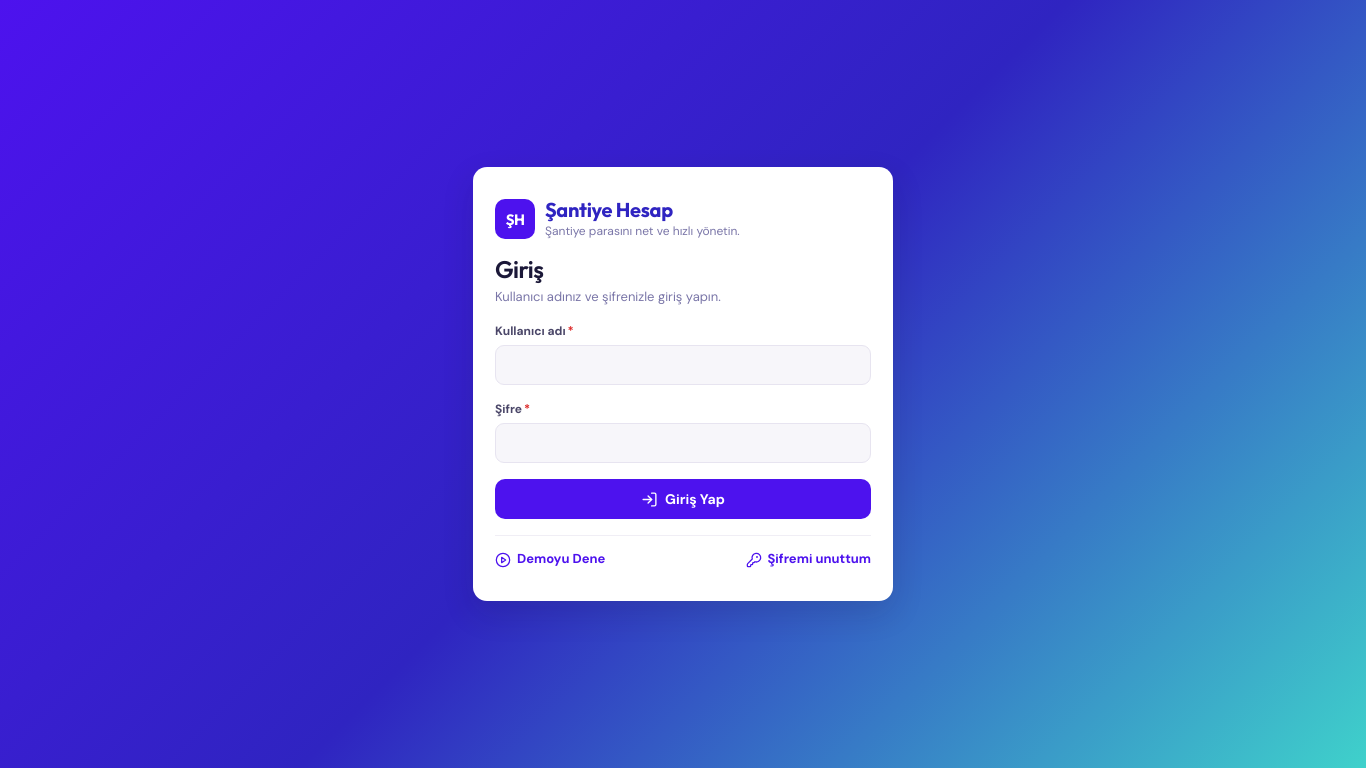
Scenario: giriş formu › boş gönderimde alan hataları; yanlış bilgide hangi alanın yanlış olduğunu söylemeyen mesaj
The width and height of the screenshot is (1366, 768).
Click the button "Giriş Yap" at (683,499), box x1=495 y1=479 x2=871 y2=519
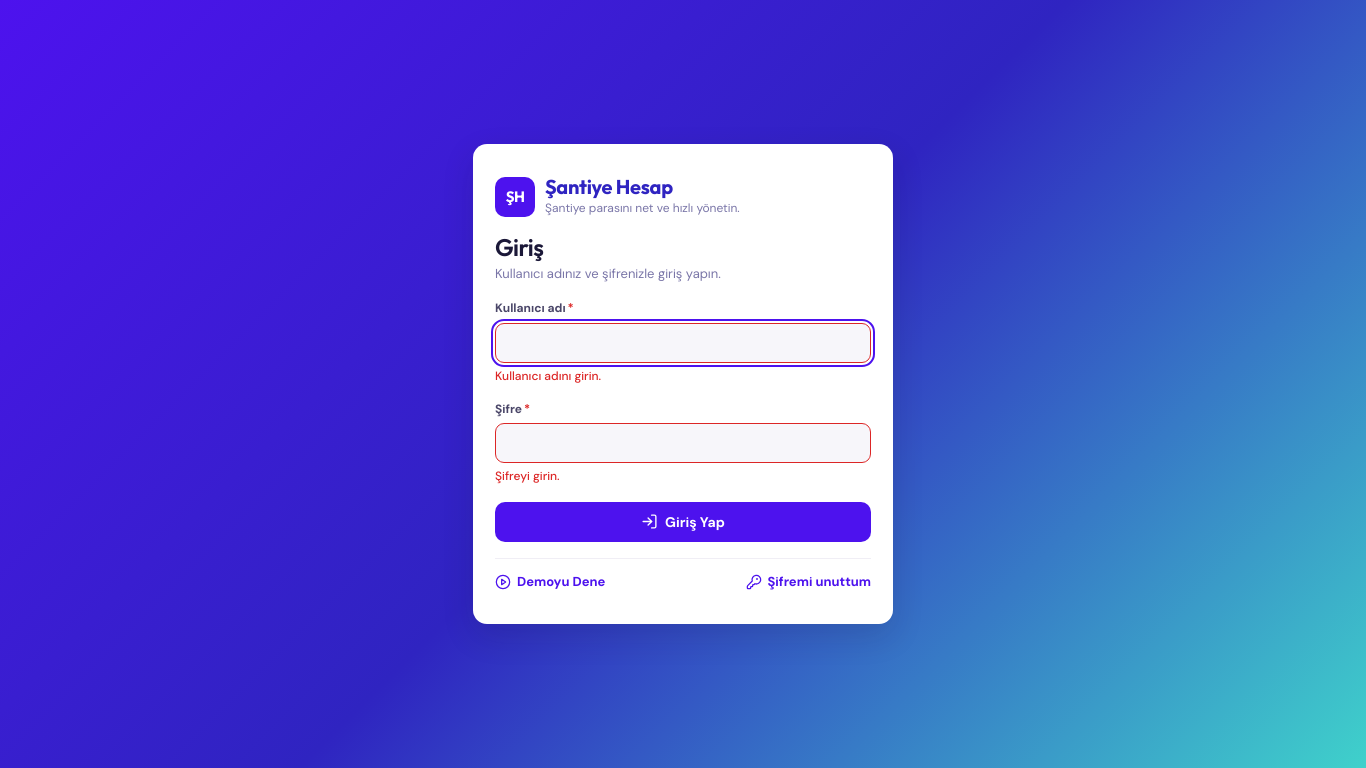
Expected: the text "Kullanıcı adını girin." is shown, x1=495 y1=368 x2=601 y2=384
Expected: the text "Şifreyi girin." is shown, x1=495 y1=468 x2=560 y2=484
Type "ayse" into the field labelled "Kullanıcı adı*" at (683,343), box x1=495 y1=323 x2=871 y2=363
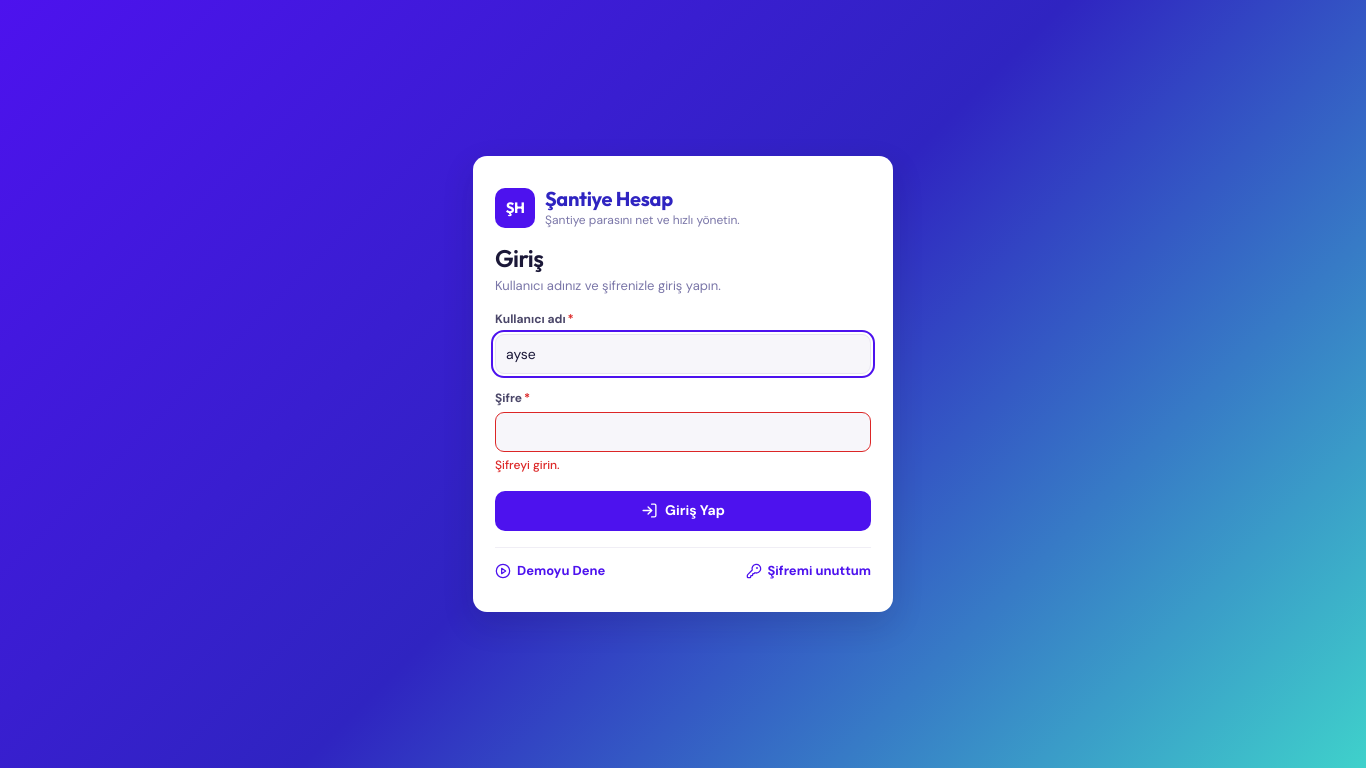
Type "yanlis-sifre" into the password field labelled "Şifre*" at (683,432), box x1=495 y1=412 x2=871 y2=452
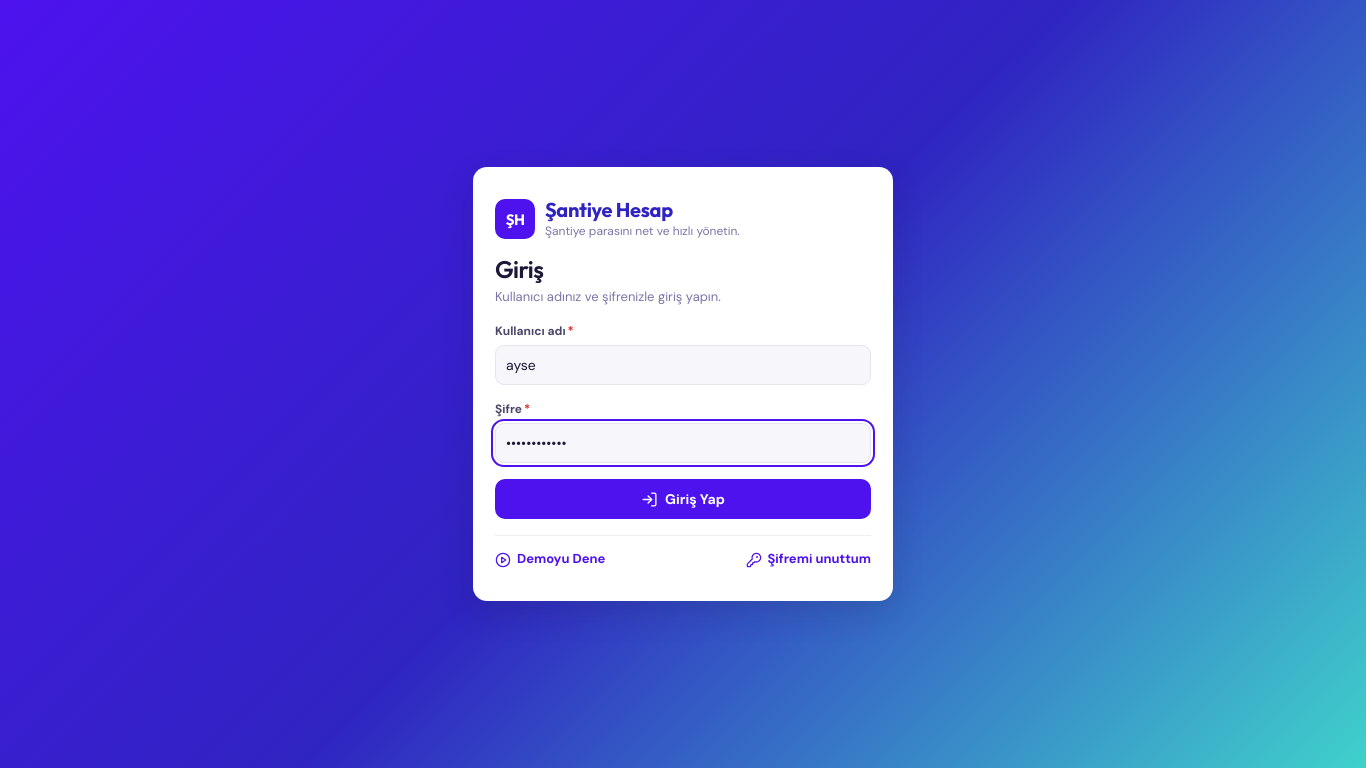
Click the button "Giriş Yap" at (683,499), box x1=495 y1=479 x2=871 y2=519
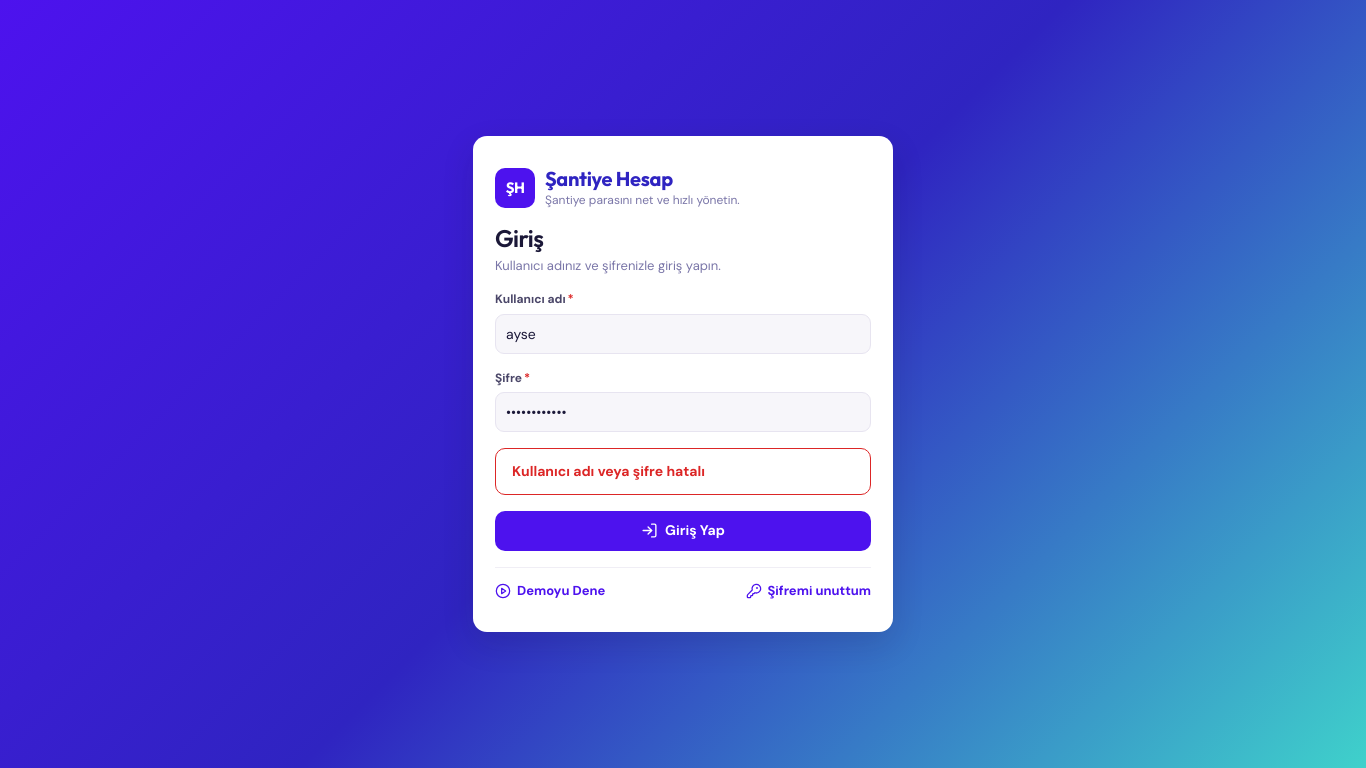
Expected: the link "Demoyu Dene" is shown, x1=495 y1=582 x2=605 y2=600
Expected: the text "Kullanıcı adı veya şifre hatalı" is shown, x1=512 y1=462 x2=705 y2=480
